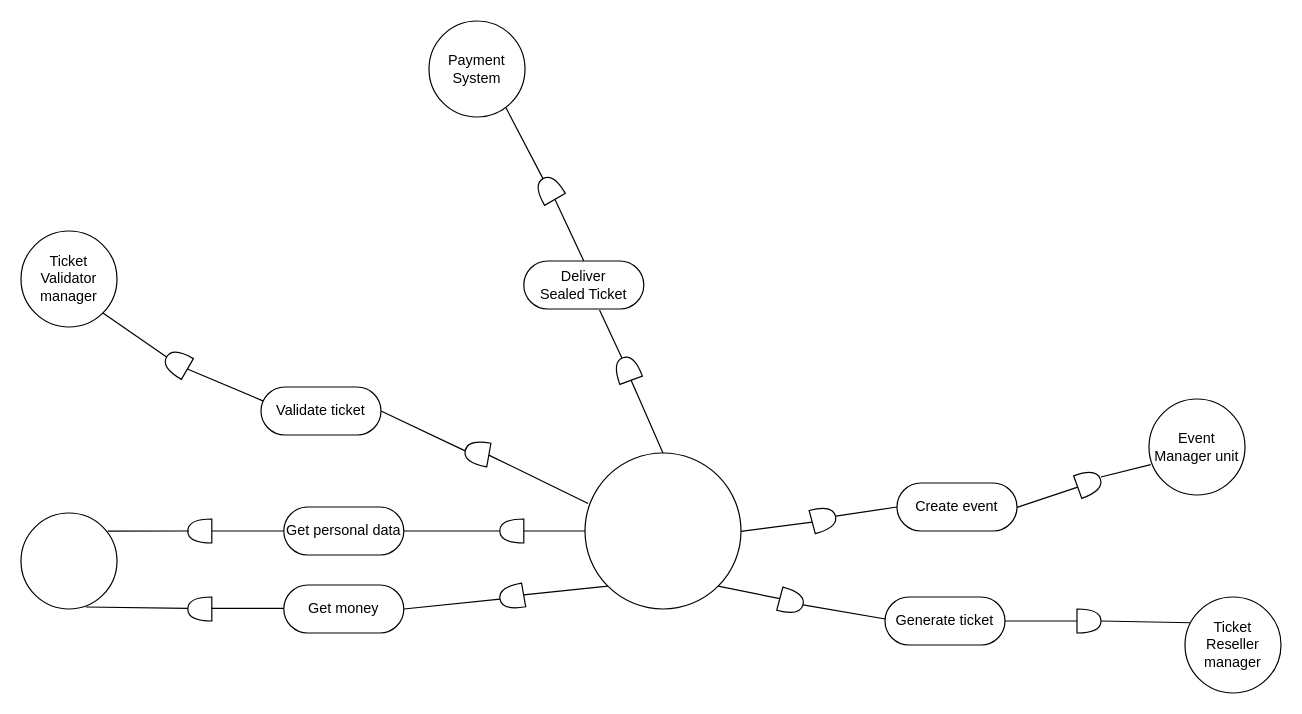
This 1302x714 diagram has some shape labels left out. Here are the shapes that lost their labels. From the top down, the centre of each, then its label:
At (662,530): "System".
At (68,560): "Buyer manager".
